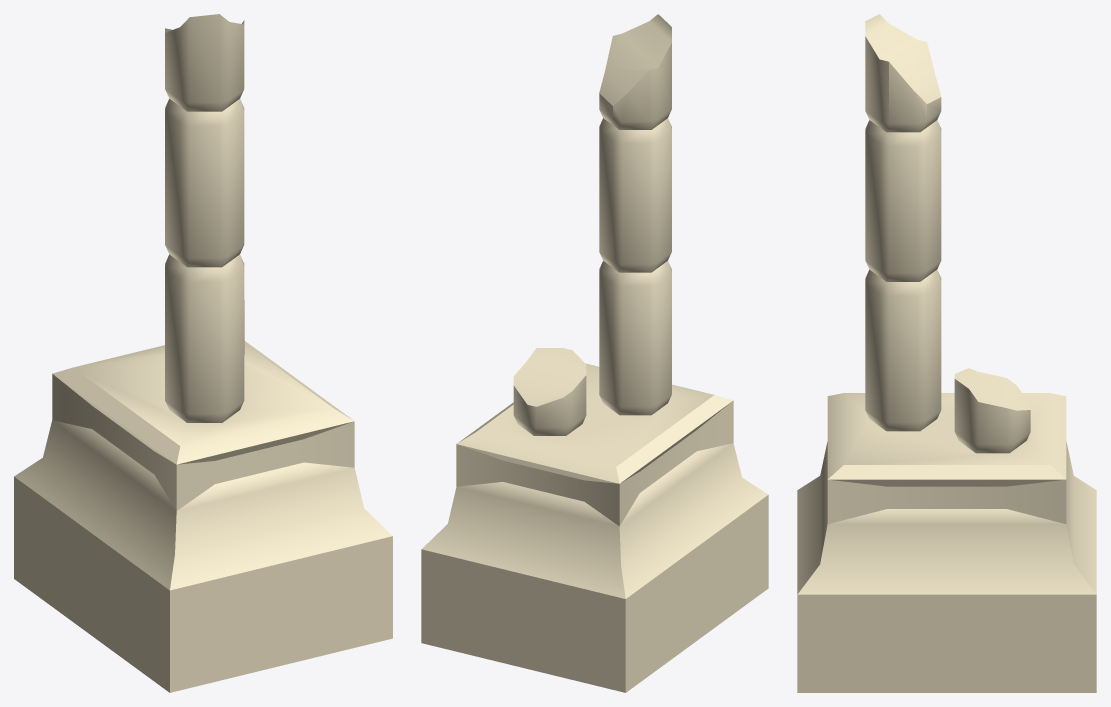
Rendered from Destroy_Pillar_2.fbx.
3 renders of one model, left to right at view 1: azimuth 30°, elevation 25°; view 2: azimuth 150°, elevation 25°; view 3: azimuth 270°, elevation 25°, orthographic. The views are drawn at different scales.
Visible parts, largest first — view 1: Destroy_Pillar_2_LOD0; view 2: Destroy_Pillar_2_LOD0; view 3: Destroy_Pillar_2_LOD0.
Boxes of the visible parts, bbox=[...] form: Destroy_Pillar_2_LOD0: bbox=[14, 14, 392, 692]; Destroy_Pillar_2_LOD0: bbox=[421, 14, 768, 692]; Destroy_Pillar_2_LOD0: bbox=[797, 14, 1096, 692].
Size of what is drawn, in the model's own units: 300 by 812 by 363.
